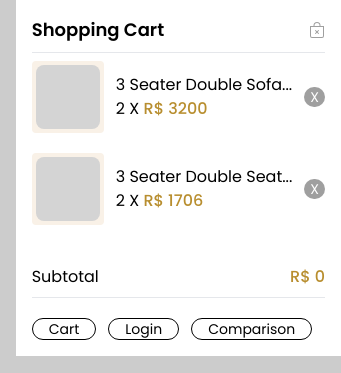
Test: <HeaderModal /> › should empty cart when clicking in 'bag icon'
Click the icon with test id "emptyBagIcon".
click(317, 30)  # box x1=309 y1=22 x2=325 y2=38
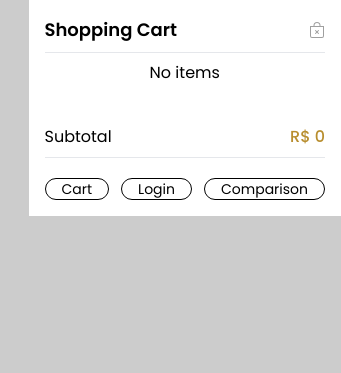
Now the list item "No items" is shown, box x1=150 y1=61 x2=220 y2=84
